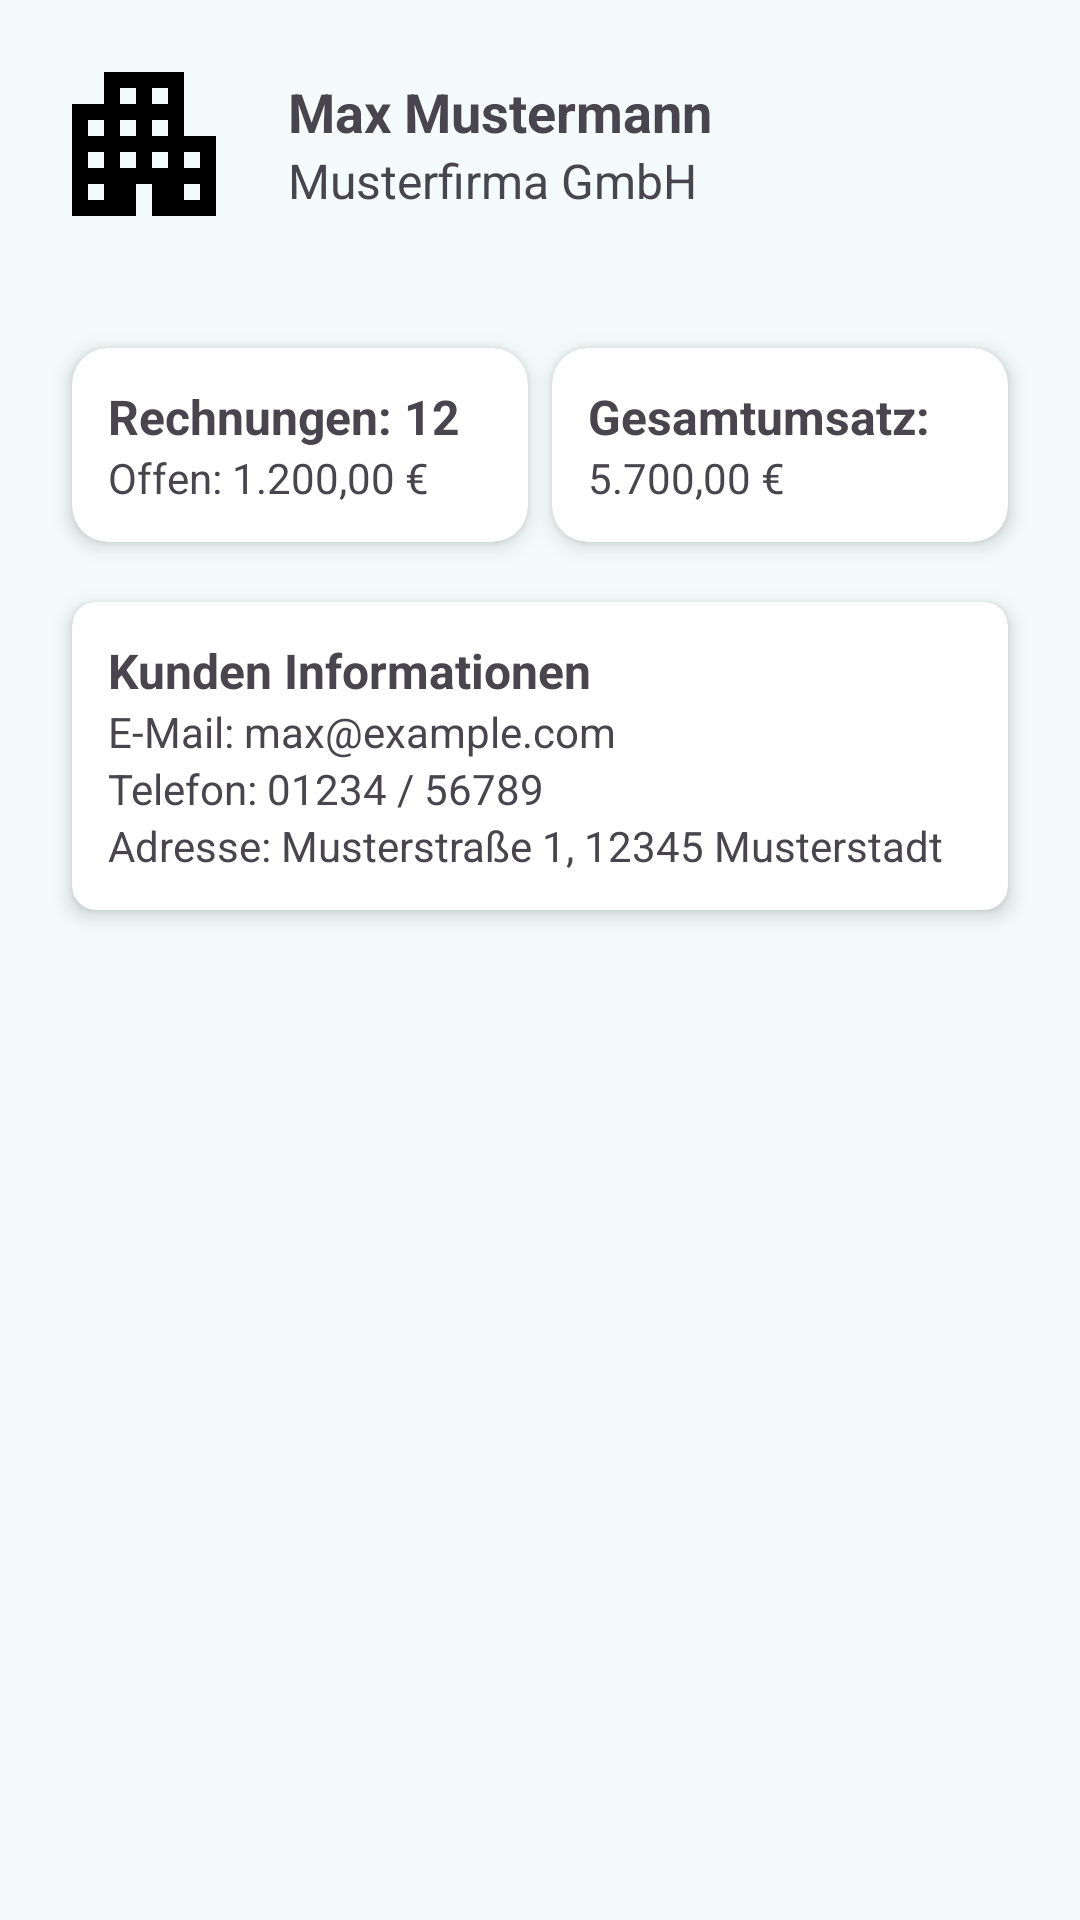

Where icons sit on this 1080px x 1920px app screen, as (left=x1, top=y1, right=x2, bottom=y2):
Firmenlogo: (left=72, top=72, right=216, bottom=216)
